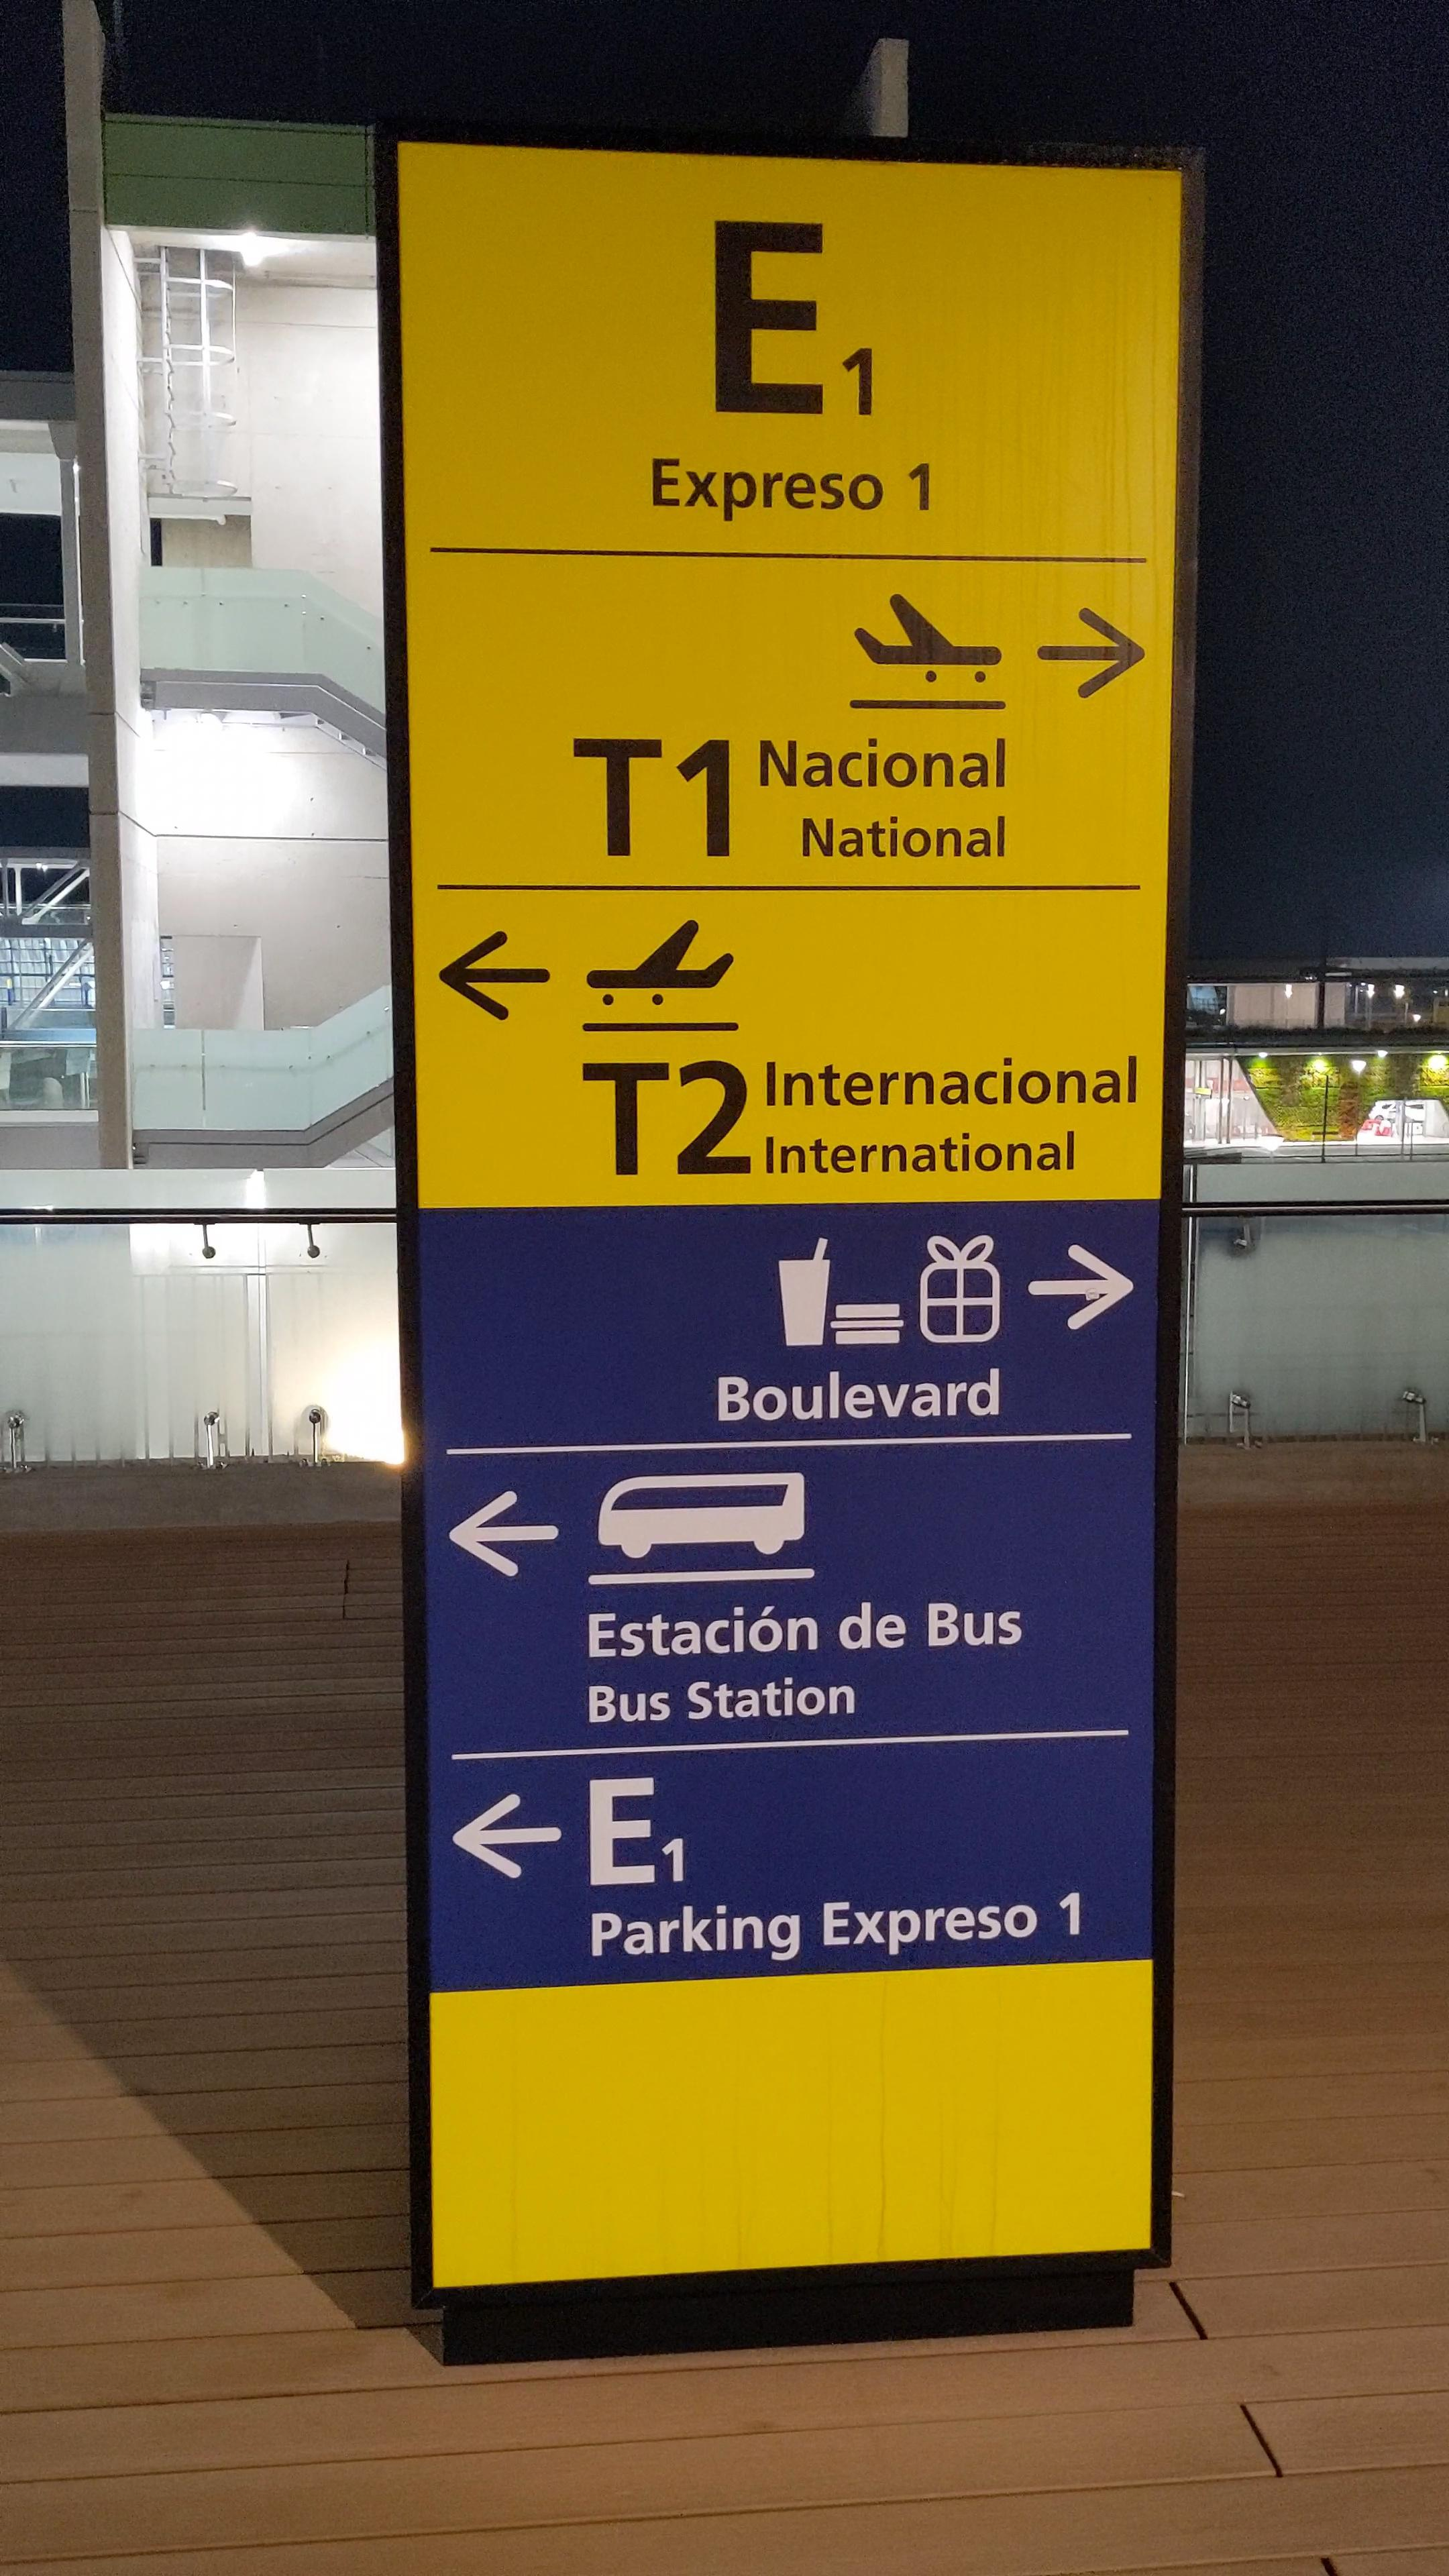airplane symbol: (853, 591, 1008, 688), (580, 916, 741, 1010)
thin left arrow: (446, 1789, 568, 1886), (433, 929, 557, 1024), (446, 1486, 564, 1583)
thin right arrow: (1035, 603, 1150, 706), (1024, 1242, 1136, 1339)
